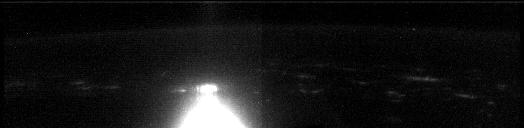positive: (192, 82, 220, 105)
